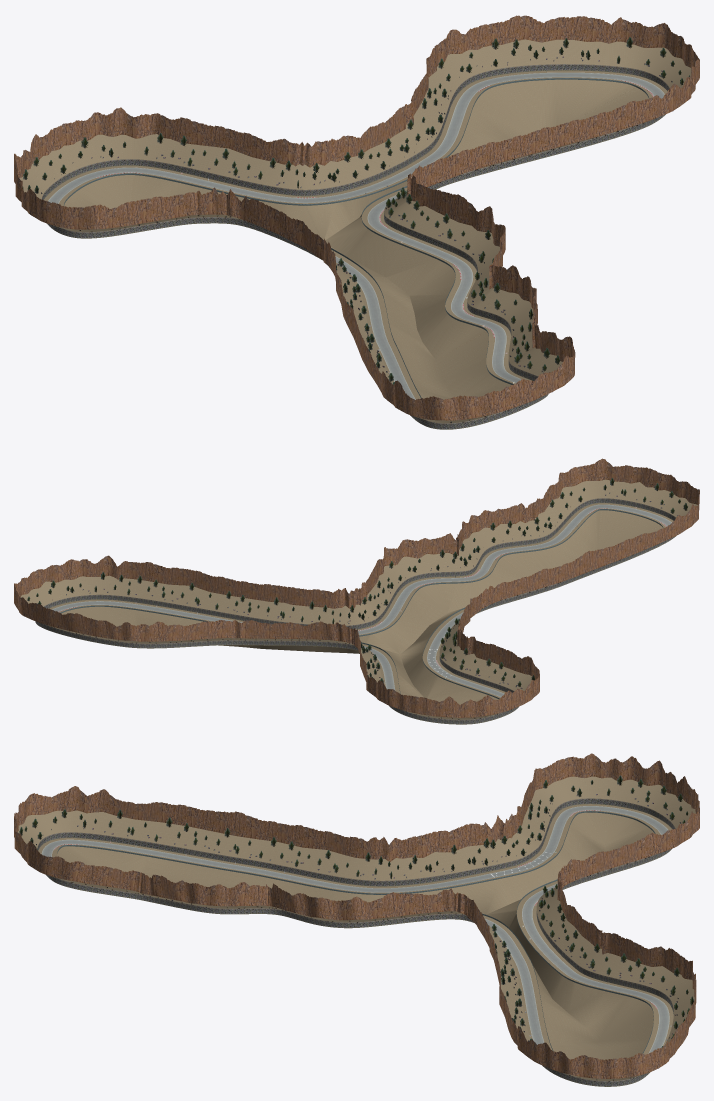
3 views of the same model, one above another, from view 1: azimuth 30°, elevation 25°; view 2: azimuth 150°, elevation 25°; view 3: azimuth 270°, elevation 25° (orthographic). The views are drawn at different scales.
Visible parts, largest first — view 1: RaceTrack_Main, RaceTrack_Inside, RaceTrack_Trees; view 2: RaceTrack_Main, RaceTrack_Inside, RaceTrack_Trees; view 3: RaceTrack_Main, RaceTrack_Inside, RaceTrack_Trees.
Part boxes in pixels (x1,y1,x2,y2): RaceTrack_Main: (14,15,699,429); RaceTrack_Inside: (64,79,648,399); RaceTrack_Trees: (22,37,689,422); RaceTrack_Main: (14,458,699,724); RaceTrack_Inside: (61,510,662,704); RaceTrack_Trees: (21,478,687,719); RaceTrack_Main: (14,753,699,1086); RaceTrack_Inside: (57,812,654,1060); RaceTrack_Trees: (19,775,693,1081).
Size of the model in its own units: 651 by 78.48 by 653.
